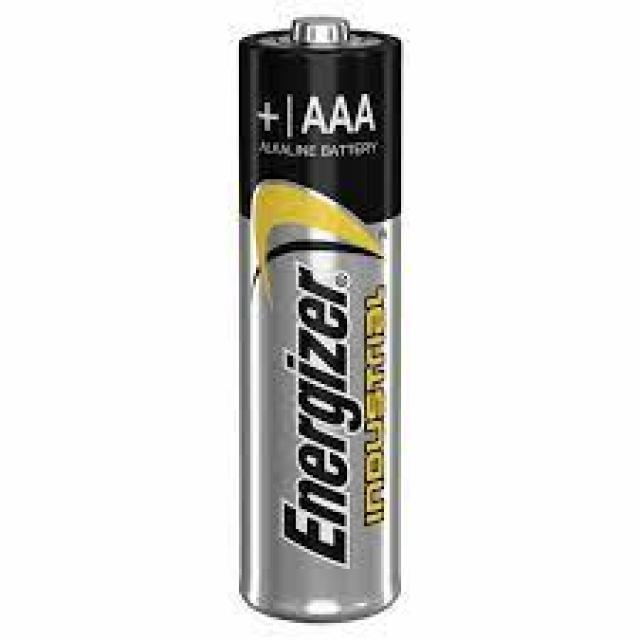AAA: (236, 13, 408, 628)
